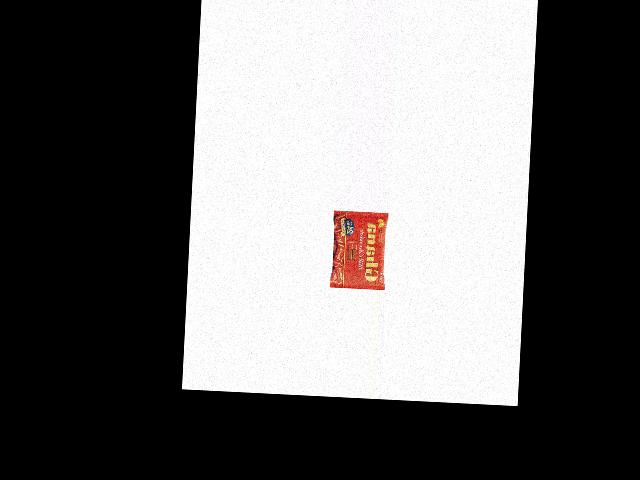chocolate: (328, 209, 387, 288)
